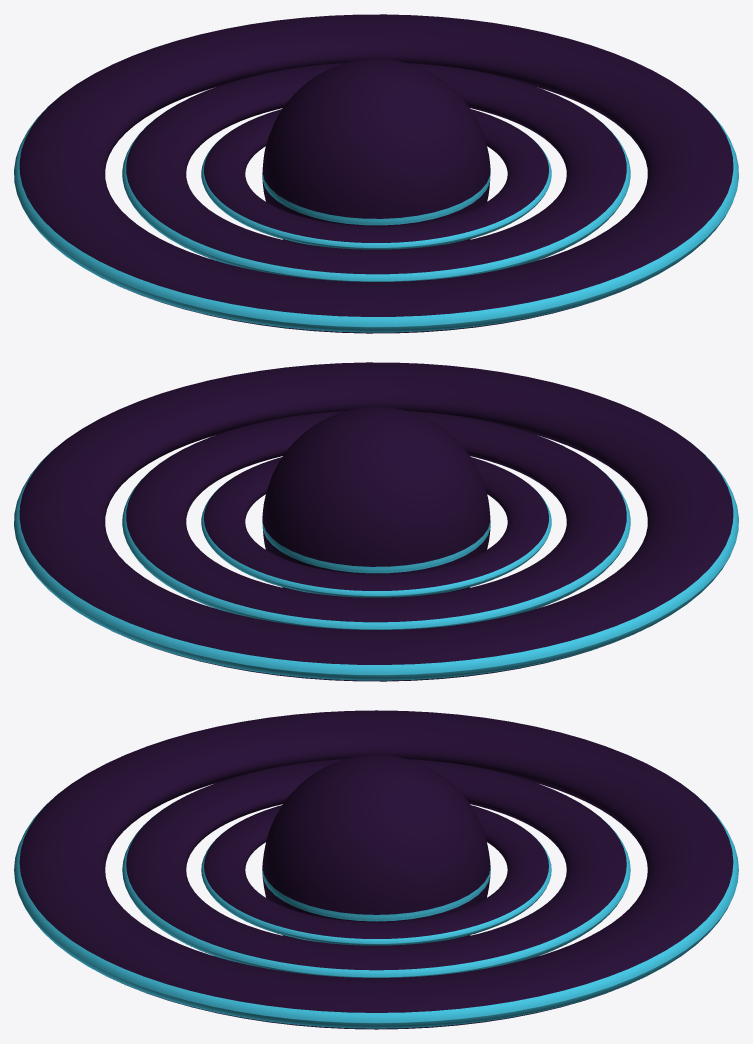
File: trou_noir_export_4.fbx
3 renders of one model, top to bottom at view 1: azimuth 30°, elevation 25°; view 2: azimuth 150°, elevation 25°; view 3: azimuth 270°, elevation 25°, orthographic.
Visible parts, largest first — view 1: pTorus5, pTorus4, pSphere1, pTorus1; view 2: pTorus5, pTorus4, pSphere1, pTorus1; view 3: pTorus5, pTorus4, pSphere1, pTorus1.
Boxes of the visible parts, bbox=[...] form: pTorus5: bbox=[14, 14, 738, 333]; pTorus4: bbox=[122, 63, 630, 281]; pSphere1: bbox=[262, 59, 490, 242]; pTorus1: bbox=[201, 109, 551, 249]; pTorus5: bbox=[14, 362, 738, 681]; pTorus4: bbox=[122, 411, 630, 629]; pSphere1: bbox=[262, 407, 490, 590]; pTorus1: bbox=[201, 457, 551, 597]; pTorus5: bbox=[14, 710, 738, 1029]; pTorus4: bbox=[122, 759, 630, 977]; pSphere1: bbox=[262, 755, 490, 937]; pTorus1: bbox=[201, 805, 551, 945].
Size of the model in its own units: 6.26 by 2 by 6.26.
